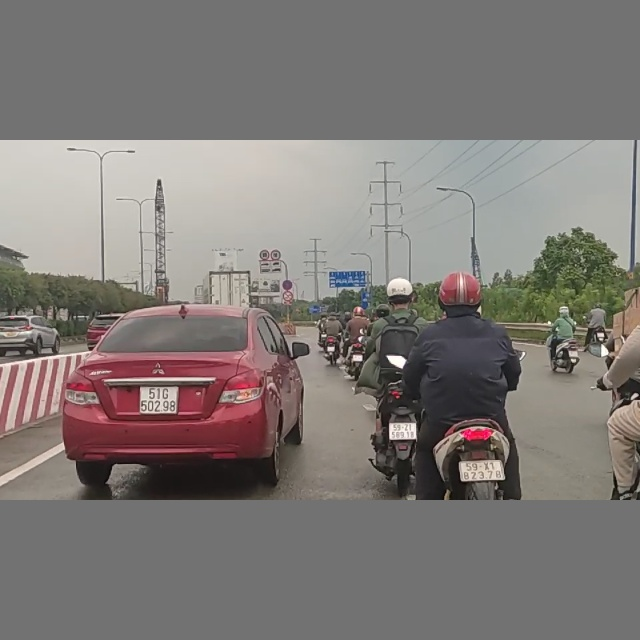P.130: (281, 279, 293, 290)
